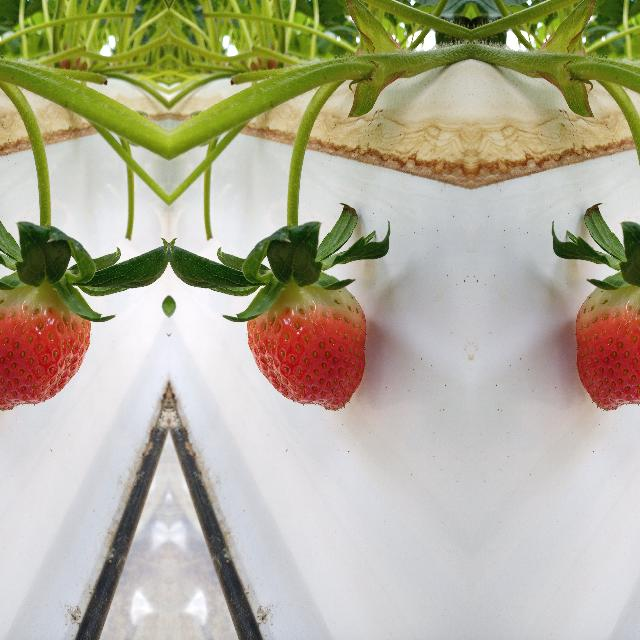Health_100: (246, 270, 366, 412), (0, 270, 90, 411), (575, 270, 640, 411)
